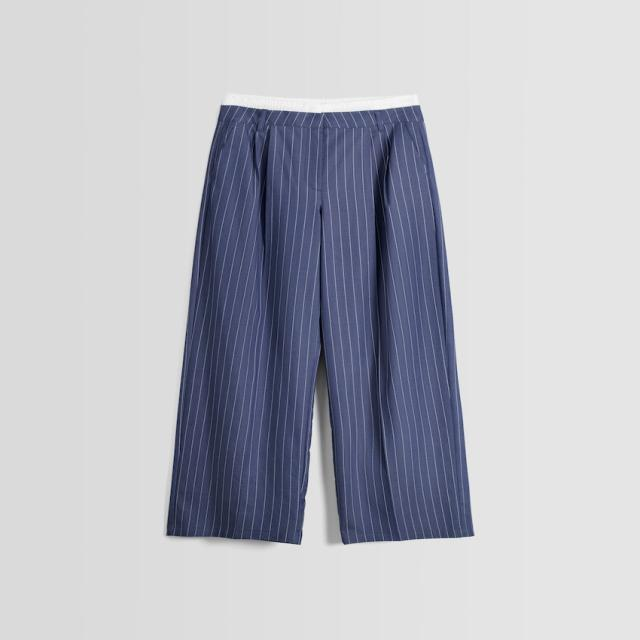long-pants: (164, 97, 476, 547)
